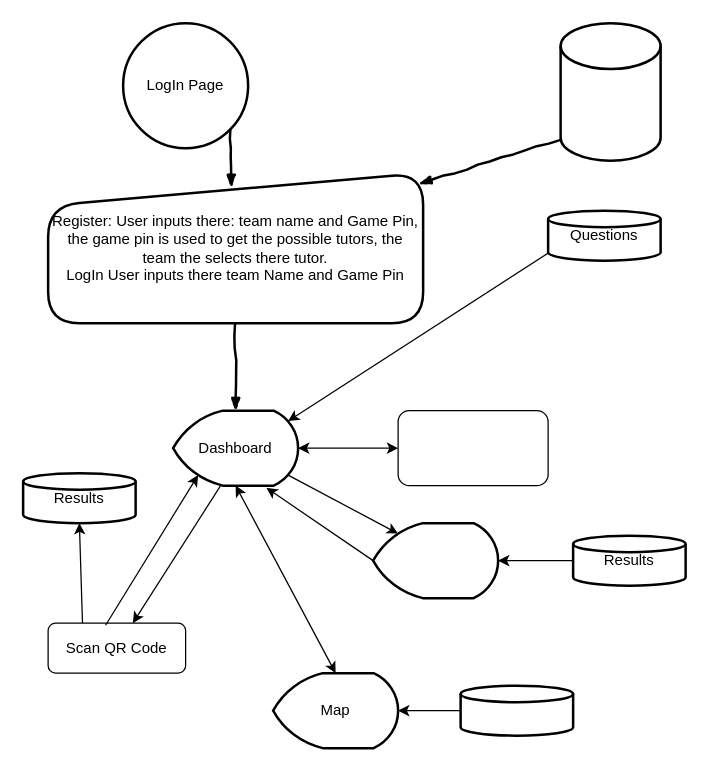
The diagram is 708 pixels wide and 770 high, and some of its shapes have lost their labels. The centre of each missing label's shape, as x and y in pixels:
"FAQ ChatBot" belongs at [472,447].
"Leaderboard" belongs at [435,560].
"Subjects" belongs at [516,710].
"Tutors, Teams, Game" belongs at [610,91].
